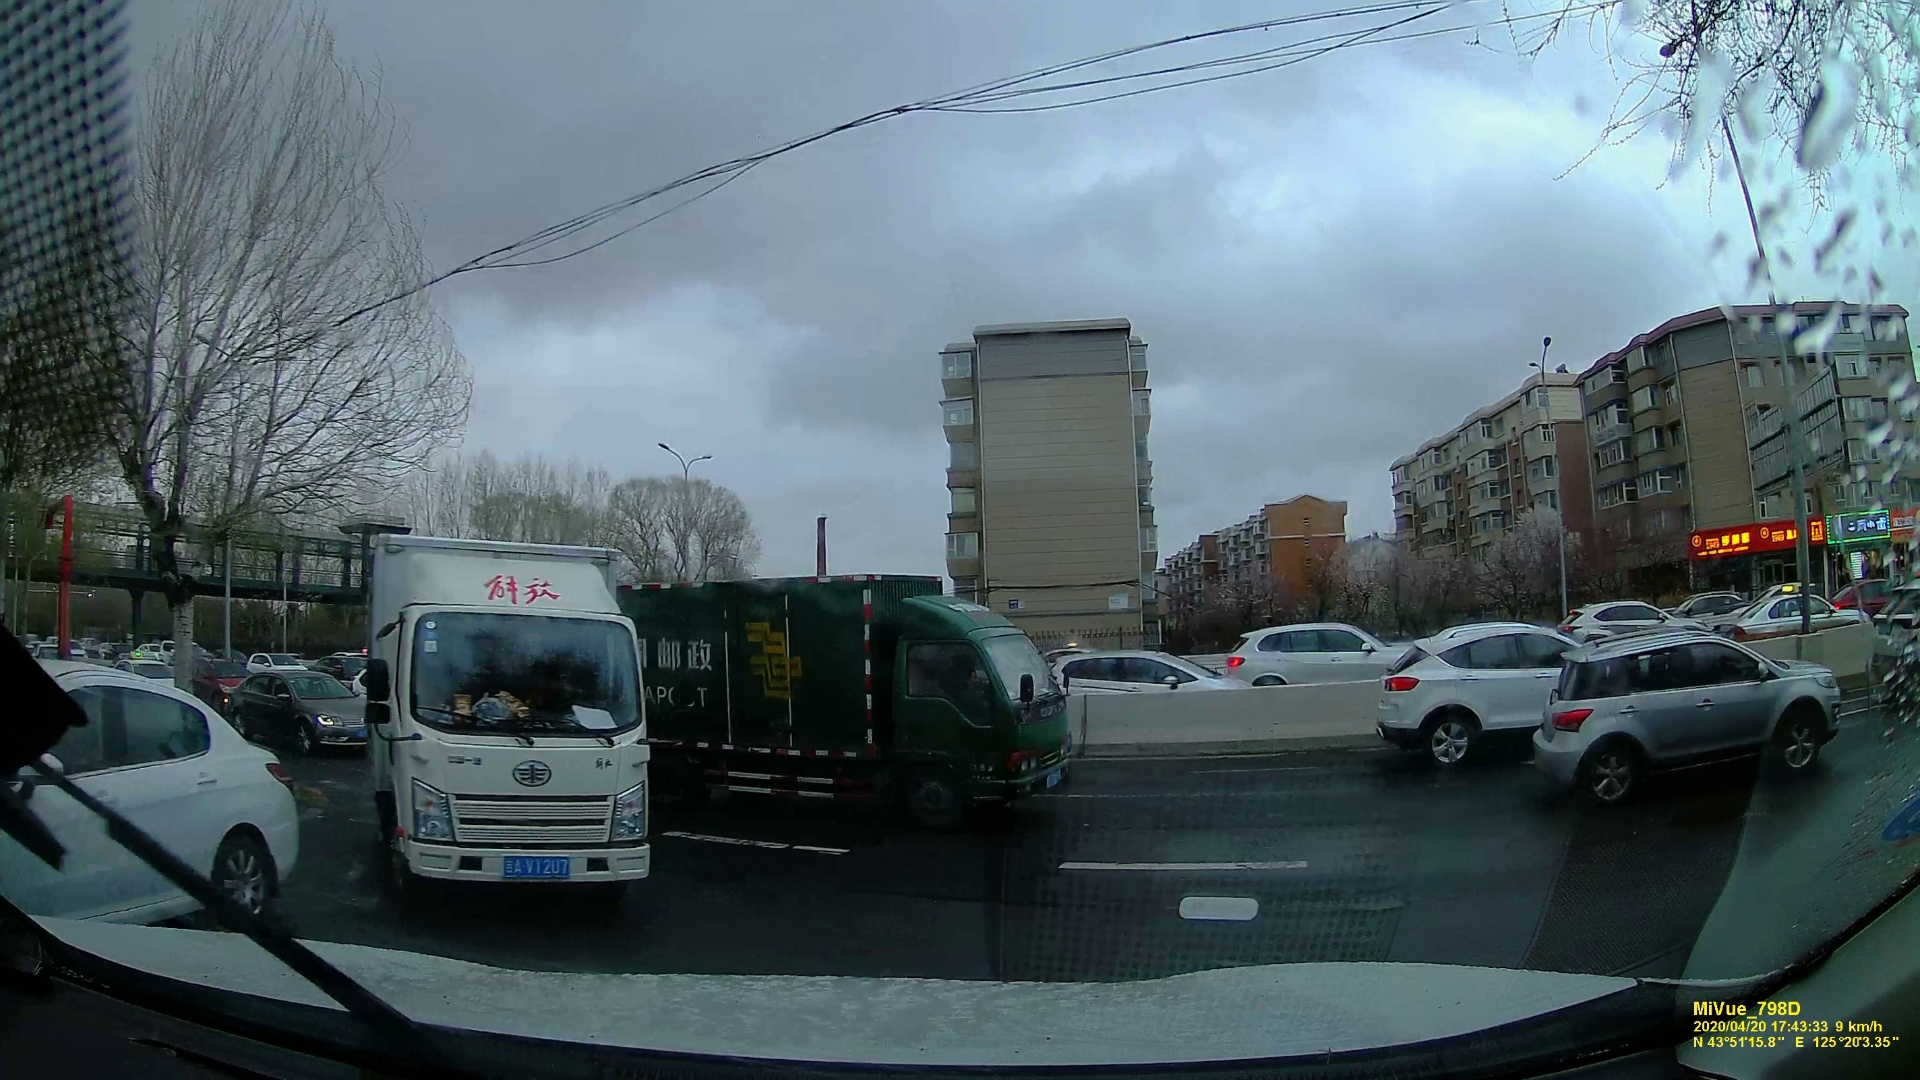truck: (663, 566, 1083, 833), (363, 533, 659, 905)
vehicle: (7, 658, 299, 920), (1542, 636, 1849, 798), (1374, 629, 1559, 764), (228, 663, 367, 749), (1226, 621, 1386, 688), (1048, 651, 1245, 698), (1727, 589, 1867, 642)
